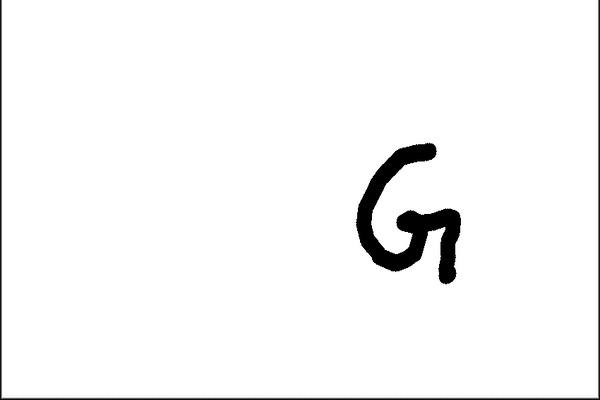G: (350, 138, 466, 286)
